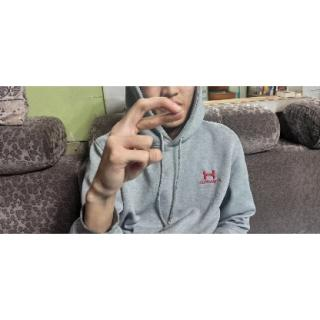ZAY: (89, 90, 186, 200)
